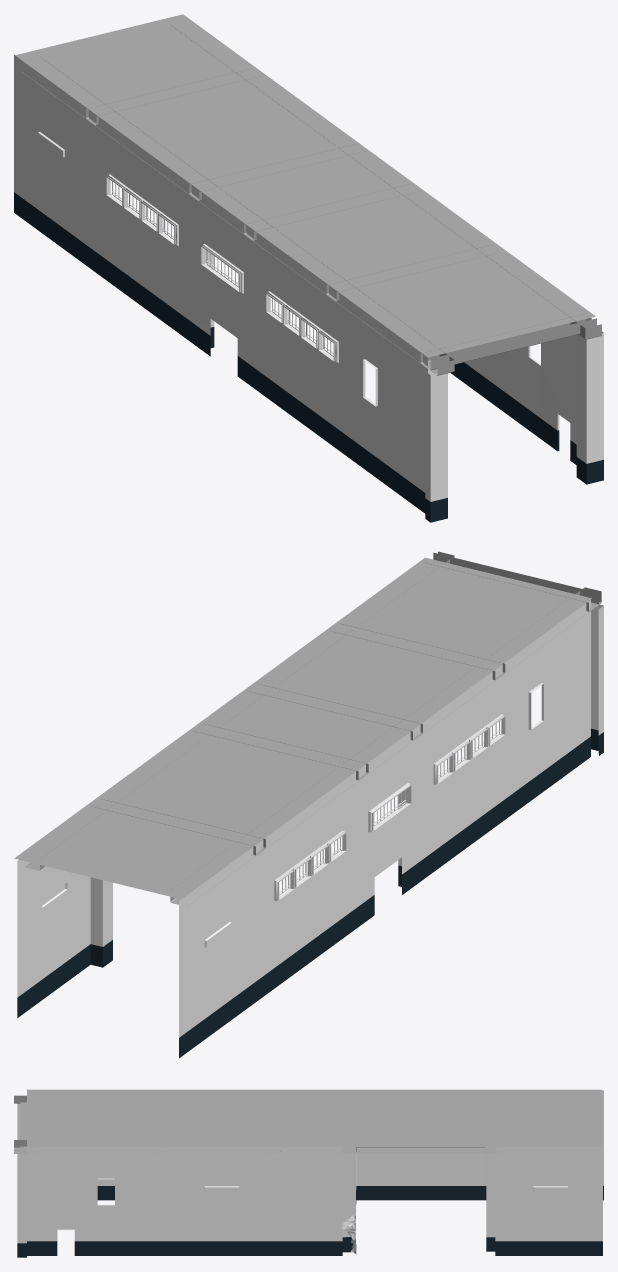
File: SM_H_Building_Tide_Corridor_05_ATLAS.fbx
3 renders of one model, top to bottom at view 1: azimuth 30°, elevation 25°; view 2: azimuth 150°, elevation 25°; view 3: azimuth 270°, elevation 25°, orthographic. The views are drawn at different scales.
Parts seen in each view (by area): view 1: SM_H_Building_Tide_Corridor_05_ATLAS; view 2: SM_H_Building_Tide_Corridor_05_ATLAS; view 3: SM_H_Building_Tide_Corridor_05_ATLAS.
Part boxes in pixels (<box>): SM_H_Building_Tide_Corridor_05_ATLAS: <box>14,14,603,522</box>; SM_H_Building_Tide_Corridor_05_ATLAS: <box>14,551,603,1058</box>; SM_H_Building_Tide_Corridor_05_ATLAS: <box>14,1089,603,1257</box>.
Bounding box in the file's own units: 1268 × 5369 × 1132.
